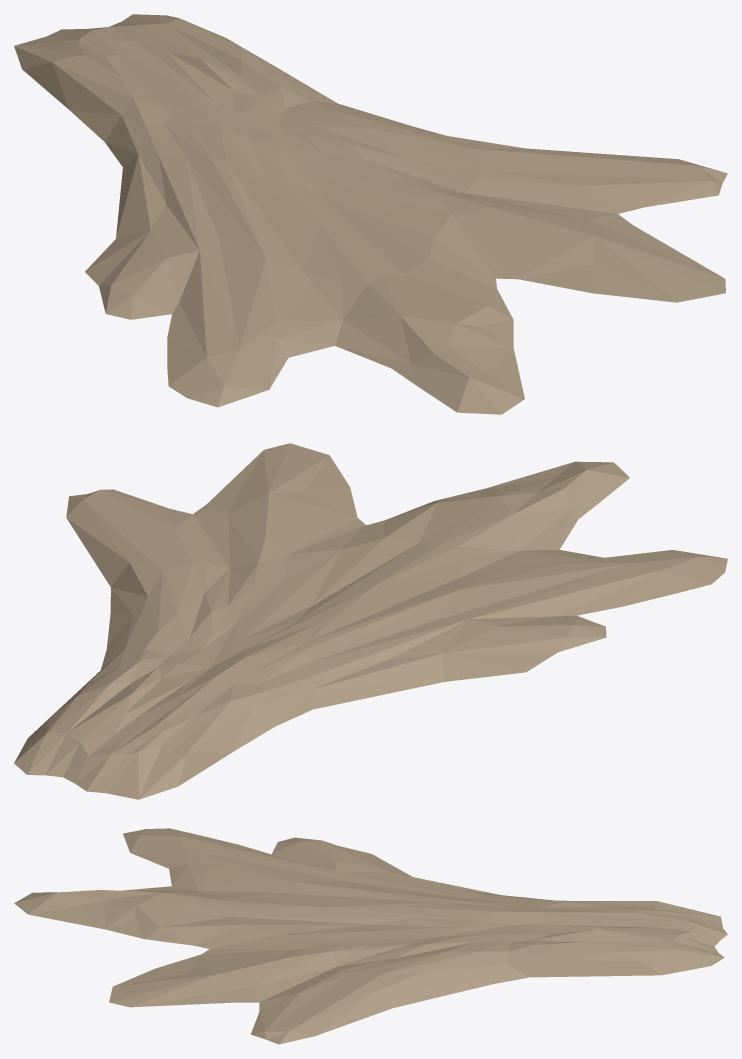
File: SM_Env_DirtRoad_End_01.fbx
3 views of the same model, one above another, from view 1: azimuth 30°, elevation 25°; view 2: azimuth 150°, elevation 25°; view 3: azimuth 270°, elevation 25° (orthographic). The views are drawn at different scales.
Visible parts, largest first — view 1: SM_Env_DirtRoad_End_01; view 2: SM_Env_DirtRoad_End_01; view 3: SM_Env_DirtRoad_End_01.
Part boxes in pixels (x1,y1,x2,y2): SM_Env_DirtRoad_End_01: [14, 14, 727, 414]; SM_Env_DirtRoad_End_01: [14, 443, 727, 799]; SM_Env_DirtRoad_End_01: [14, 828, 727, 1044].
Size of the model in its own units: 784 by 38.33 by 1095.
